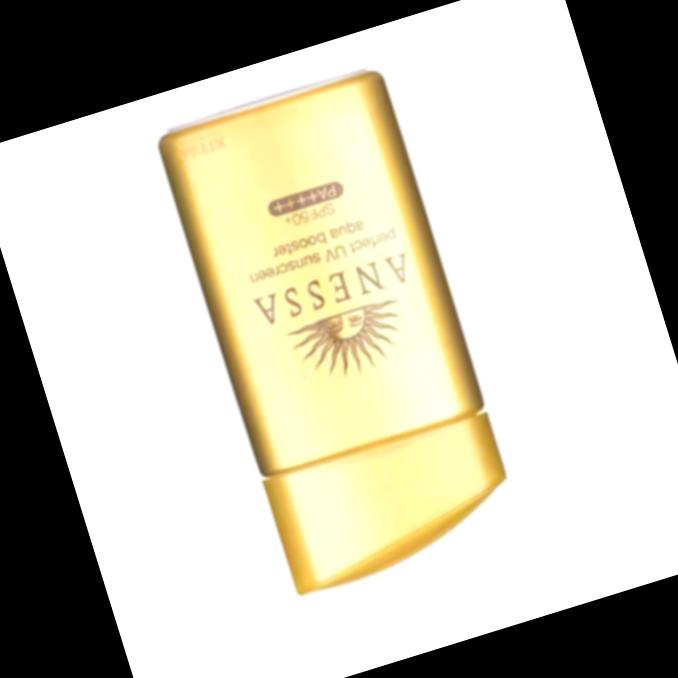cosmetic: (154, 69, 528, 599)
